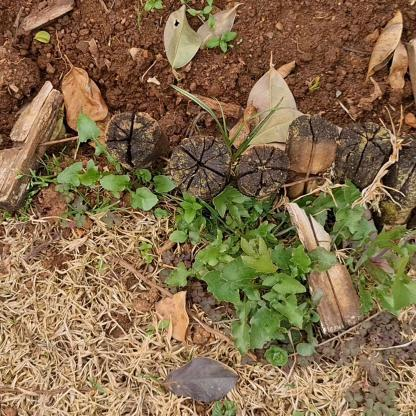Weeds: (56, 113, 415, 366), (147, 0, 239, 53)
